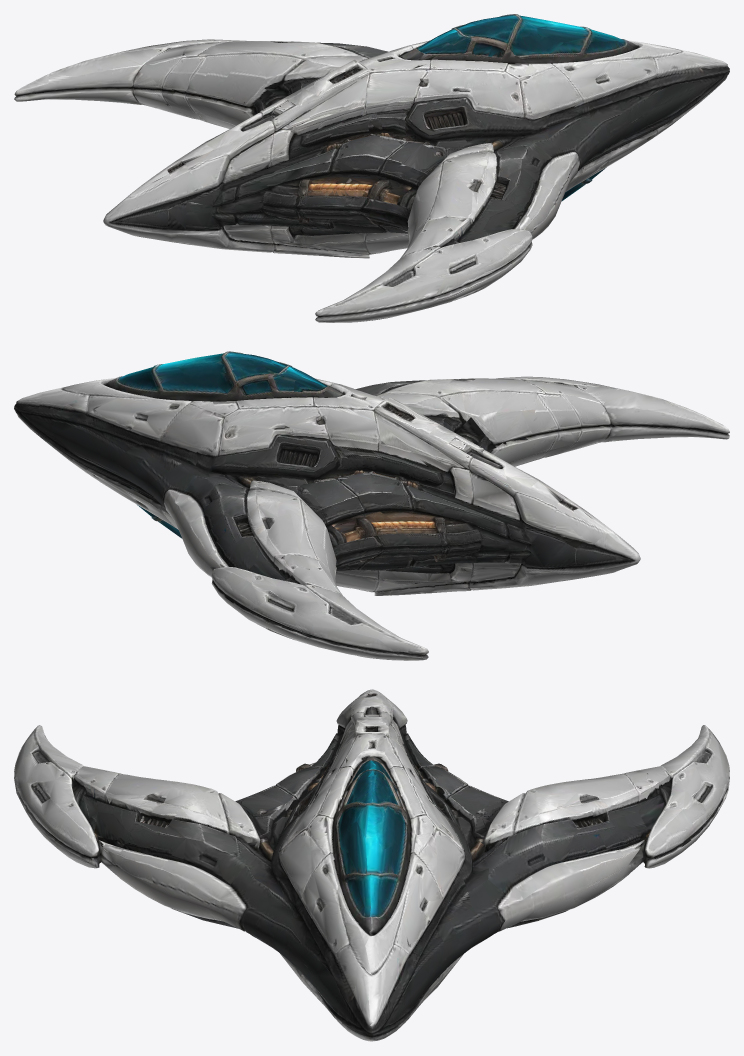
Rendered from wisp.glb.
The picture shows the model from 3 angles, top to bottom: view 1: azimuth 30°, elevation 25°; view 2: azimuth 150°, elevation 25°; view 3: azimuth 270°, elevation 25°; orthographic projection. The views are drawn at different scales.
Visible parts, largest first — view 1: Mesh_0_game; view 2: Mesh_0_game; view 3: Mesh_0_game.
Part boxes in pixels (x1,y1,x2,y2): Mesh_0_game: [14, 14, 729, 322]; Mesh_0_game: [14, 351, 729, 660]; Mesh_0_game: [14, 689, 729, 1041].
Size of the model in its own units: 1.2 by 0.3946 by 1.07.
Materials: 1 (1 with a texture image).
